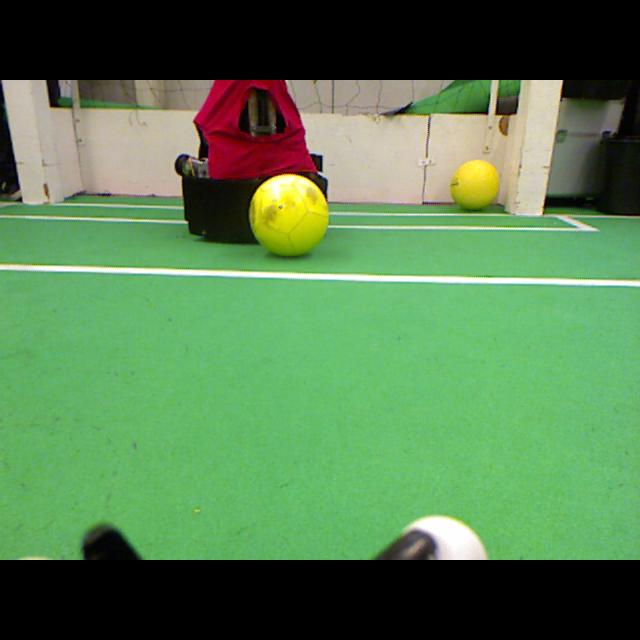ball: (249, 175, 329, 257), (449, 161, 499, 210)
goal: (515, 80, 564, 216), (1, 80, 52, 203)
